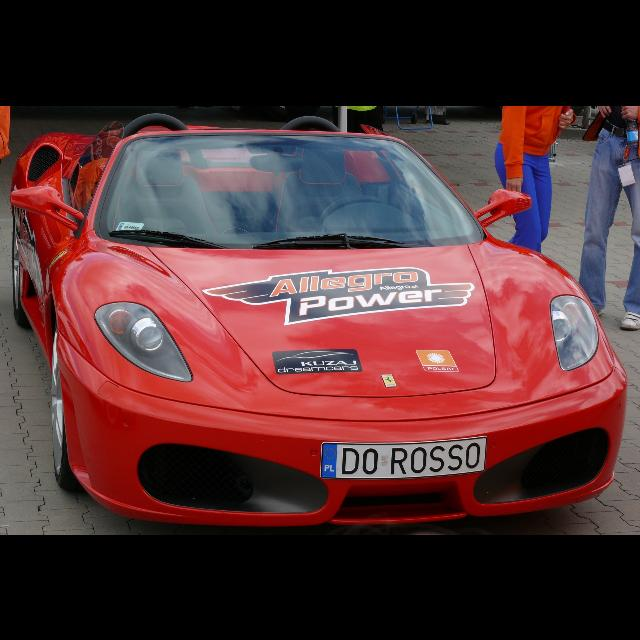pl_license_plate: (320, 436, 486, 478)
